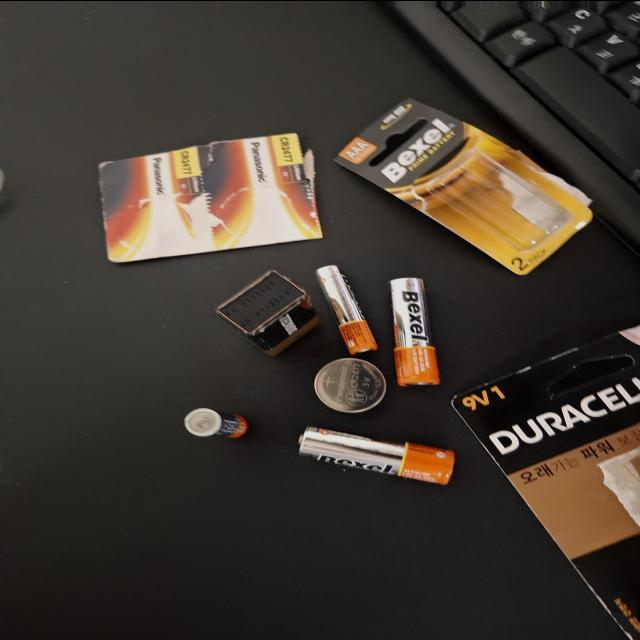9V: (380, 322, 494, 400)
AA: (208, 384, 286, 500), (340, 452, 484, 490)
AAA: (383, 397, 501, 443), (270, 298, 310, 346)
COIN: (304, 396, 378, 450)
